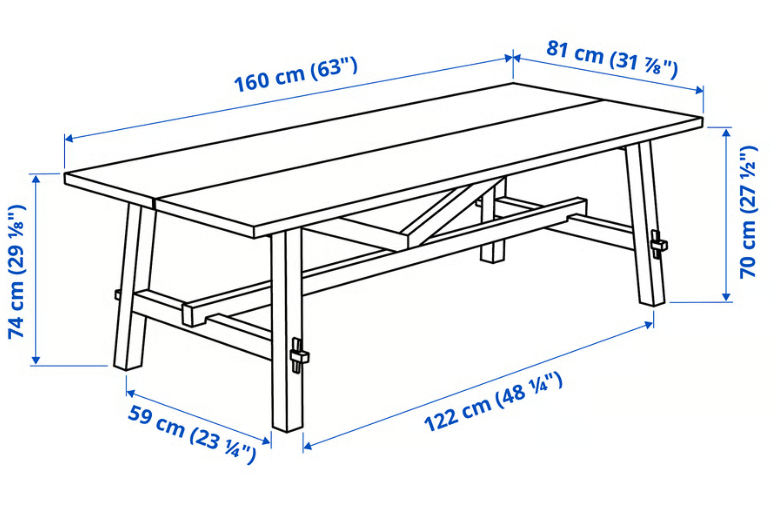table_legs: (183, 227, 309, 432), (546, 140, 667, 306), (114, 202, 185, 370), (476, 176, 543, 223), (481, 239, 505, 263)
table_support: (302, 176, 587, 296), (183, 280, 272, 326)
table_top: (65, 83, 703, 238)
